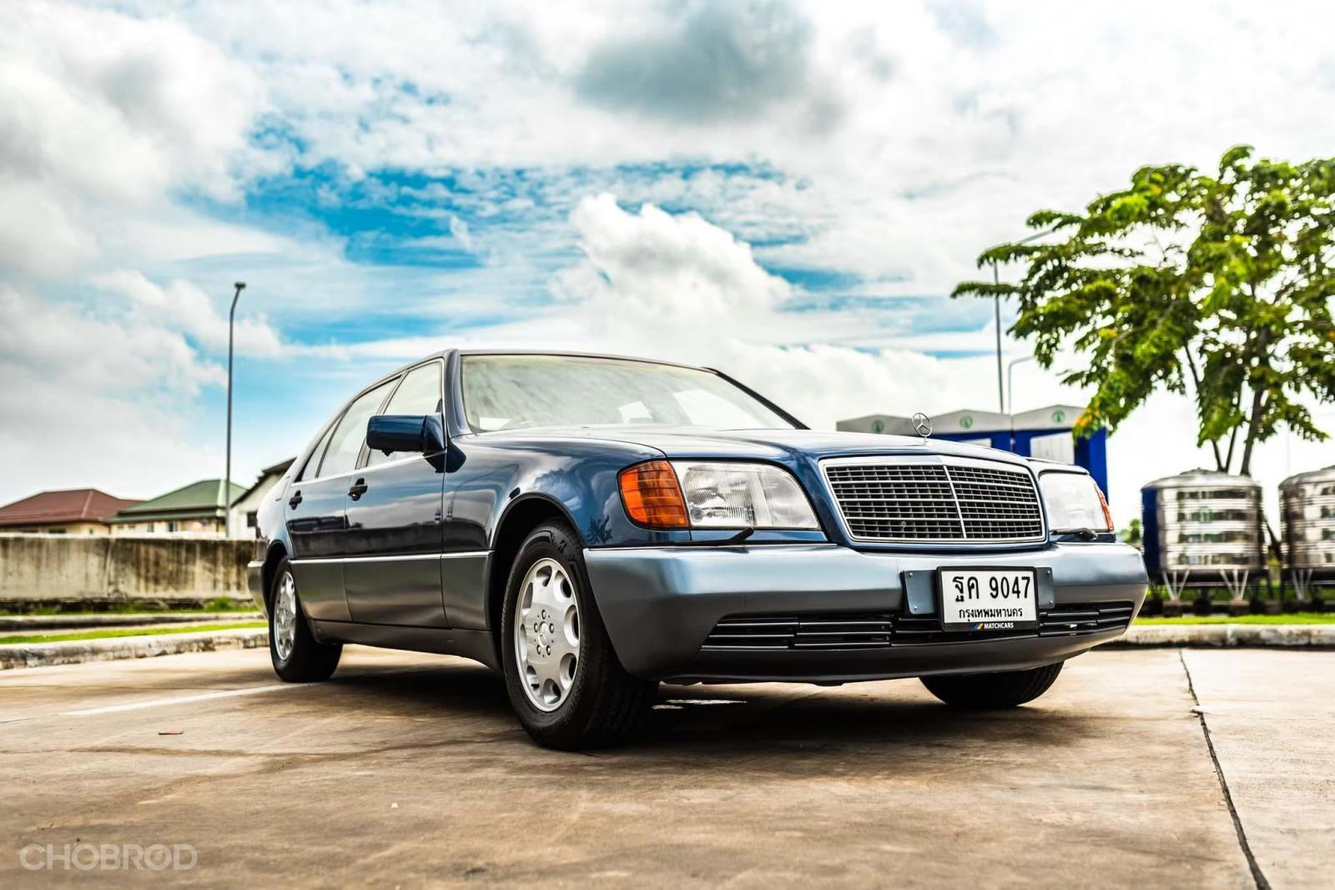license-plate: (931, 562, 1041, 639)
